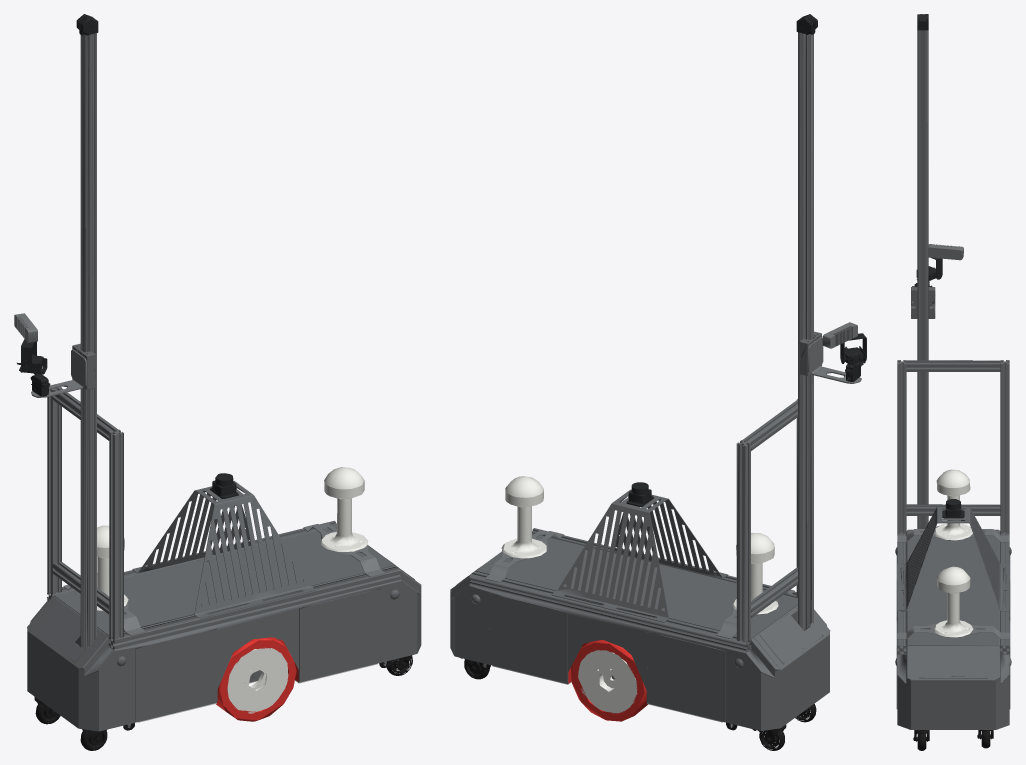
File: carmodel_about_centered.glb
The picture shows the model from 3 angles, left to right: view 1: azimuth 30°, elevation 25°; view 2: azimuth 150°, elevation 25°; view 3: azimuth 270°, elevation 25°; orthographic projection. The views are drawn at different scales.
Visible parts, largest first — view 1: ______-8.STEP-1, ____-new-0.STEP-1, ____-newnew.STEP-1, FPB30-01-01 ________.STEP.STEP-1, ________1.STEP-3, ________1.STEP-4, ____-new-1.STEP-2, ____-1 - new.STEP-2, ____-2-new.STEP-1, ______-____.STEP-1, ____-2-new.STEP-2, RTK____GPS.step.STEP-1 (+10 smaller); view 2: ______-8.STEP-1, ____-new-0.STEP-2, ____-newnew.STEP-1, FPB30-01-01 ________.STEP.STEP-1, ________1.STEP-1, ________1.STEP-2, ____-new-1.STEP-2, ____-1 - new.STEP-1, ____-2-new.STEP-2, ______-____.STEP-1, RTK____GPS.step.STEP-1, ______.STEP.STEP-1 (+9 smaller); view 3: ____-newnew.STEP-1, ____-new-1.STEP-1, FPB30-01-01 ________.STEP.STEP-1, ______-8.STEP-1, ________2.STEP-1, ____-2-new.STEP-1, ____-2-new.STEP-2, RTK____GPS.step.STEP-1, RTK____GPS.step.STEP-2, ____-3-new.STEP-1, ____-3-new.STEP-2, ____-1 - new.STEP-1 (+11 smaller).
Part boxes in pixels (left/top/right/bottom): ______-8.STEP-1: left=132, top=481, right=315, bottom=618; ____-new-0.STEP-1: left=98, top=566, right=417, bottom=731; ____-newnew.STEP-1: left=54, top=526, right=394, bottom=635; FPB30-01-01 ________.STEP.STEP-1: left=80, top=33, right=96, bottom=649; ________1.STEP-3: left=135, top=628, right=217, bottom=721; ________1.STEP-4: left=299, top=588, right=381, bottom=681; ____-new-1.STEP-2: left=27, top=597, right=106, bottom=731; ____-1 - new.STEP-2: left=109, top=566, right=401, bottom=649; ____-2-new.STEP-1: left=109, top=429, right=123, bottom=639; ______-____.STEP-1: left=227, top=648, right=288, bottom=713; ____-2-new.STEP-2: left=47, top=387, right=61, bottom=594; RTK____GPS.step.STEP-1: left=321, top=467, right=368, bottom=551; ______-8.STEP-1: left=551, top=489, right=728, bottom=622; ____-new-0.STEP-2: left=454, top=571, right=761, bottom=730; ____-newnew.STEP-1: left=476, top=533, right=797, bottom=638; FPB30-01-01 ________.STEP.STEP-1: left=798, top=32, right=813, bottom=630; ________1.STEP-1: left=488, top=593, right=567, bottom=683; ________1.STEP-2: left=646, top=632, right=725, bottom=721; ____-new-1.STEP-2: left=754, top=605, right=829, bottom=730; ____-1 - new.STEP-1: left=469, top=571, right=751, bottom=652; ____-2-new.STEP-2: left=736, top=440, right=750, bottom=642; ______-____.STEP-1: left=578, top=650, right=637, bottom=713; RTK____GPS.step.STEP-1: left=501, top=476, right=546, bottom=558; ______.STEP.STEP-1: left=809, top=34, right=812, bottom=625; ____-newnew.STEP-1: left=908, top=529, right=998, bottom=645; ____-new-1.STEP-1: left=897, top=646, right=1009, bottom=729; FPB30-01-01 ________.STEP.STEP-1: left=917, top=30, right=928, bottom=528; ______-8.STEP-1: left=897, top=507, right=1009, bottom=611; ________2.STEP-1: left=919, top=647, right=987, bottom=678; ____-2-new.STEP-1: left=897, top=360, right=906, bottom=533; ____-2-new.STEP-2: left=1000, top=360, right=1009, bottom=533; RTK____GPS.step.STEP-1: left=934, top=566, right=973, bottom=637; RTK____GPS.step.STEP-2: left=934, top=469, right=972, bottom=540; ____-3-new.STEP-1: left=906, top=360, right=1000, bottom=371; ____-3-new.STEP-2: left=906, top=504, right=1000, bottom=515; ____-1 - new.STEP-1: left=1000, top=532, right=1009, bottom=654.
Bounding box in the file's own units: 1 × 1.8 × 0.3104.
